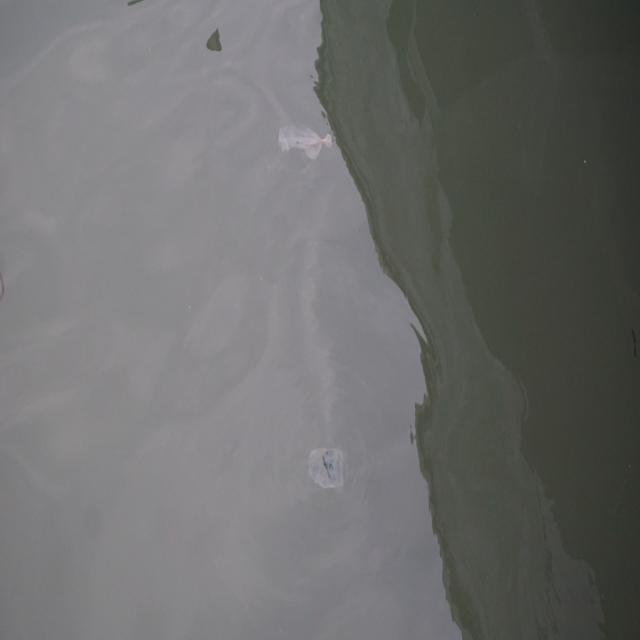Kantong Plastik: (305, 435, 350, 503), (280, 117, 335, 167)
